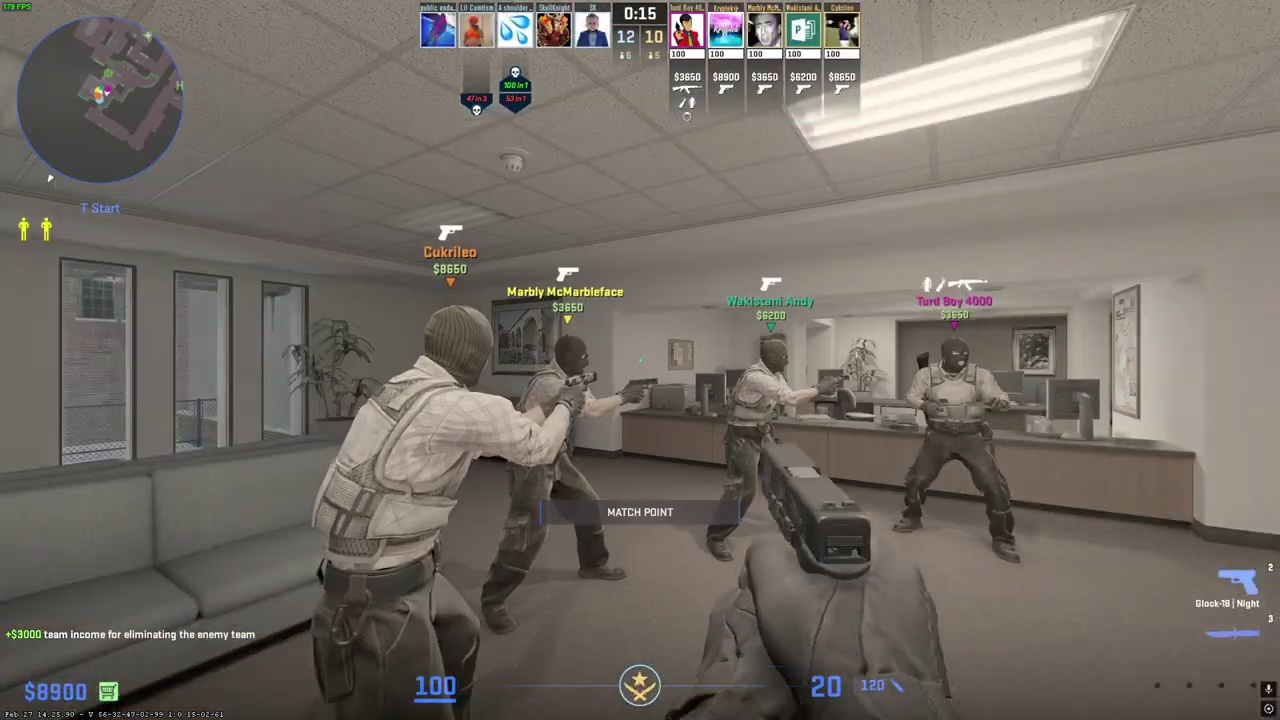Terrorist: (309, 303, 504, 720), (489, 332, 629, 633), (900, 336, 1019, 561), (712, 338, 814, 563)
